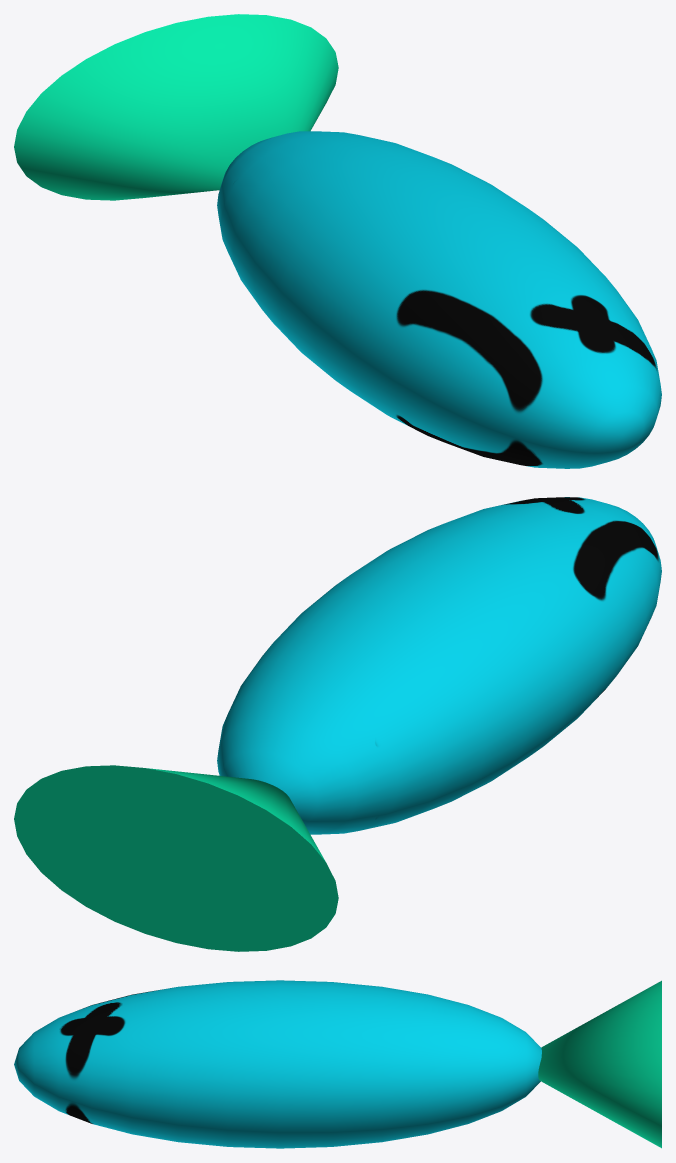
The model's file is temp-dead-fish.glb.
3 renders of one model, top to bottom at view 1: azimuth 30°, elevation 25°; view 2: azimuth 150°, elevation 25°; view 3: azimuth 270°, elevation 25°, orthographic. The views are drawn at different scales.
Visible parts, largest first — view 1: Sphere, Cone; view 2: Sphere, Cone; view 3: Sphere, Cone.
Boxes of the visible parts, box(x1,y1,x2,y2) form: Sphere: box(217, 131, 661, 468); Cone: box(14, 14, 338, 200); Sphere: box(217, 497, 661, 834); Cone: box(14, 765, 338, 951); Sphere: box(14, 980, 541, 1148); Cone: box(538, 980, 661, 1148).
Bounding box in the file's own units: 1.02 × 0.5922 × 2.43.
Materials: 2 (1 with a texture image).
